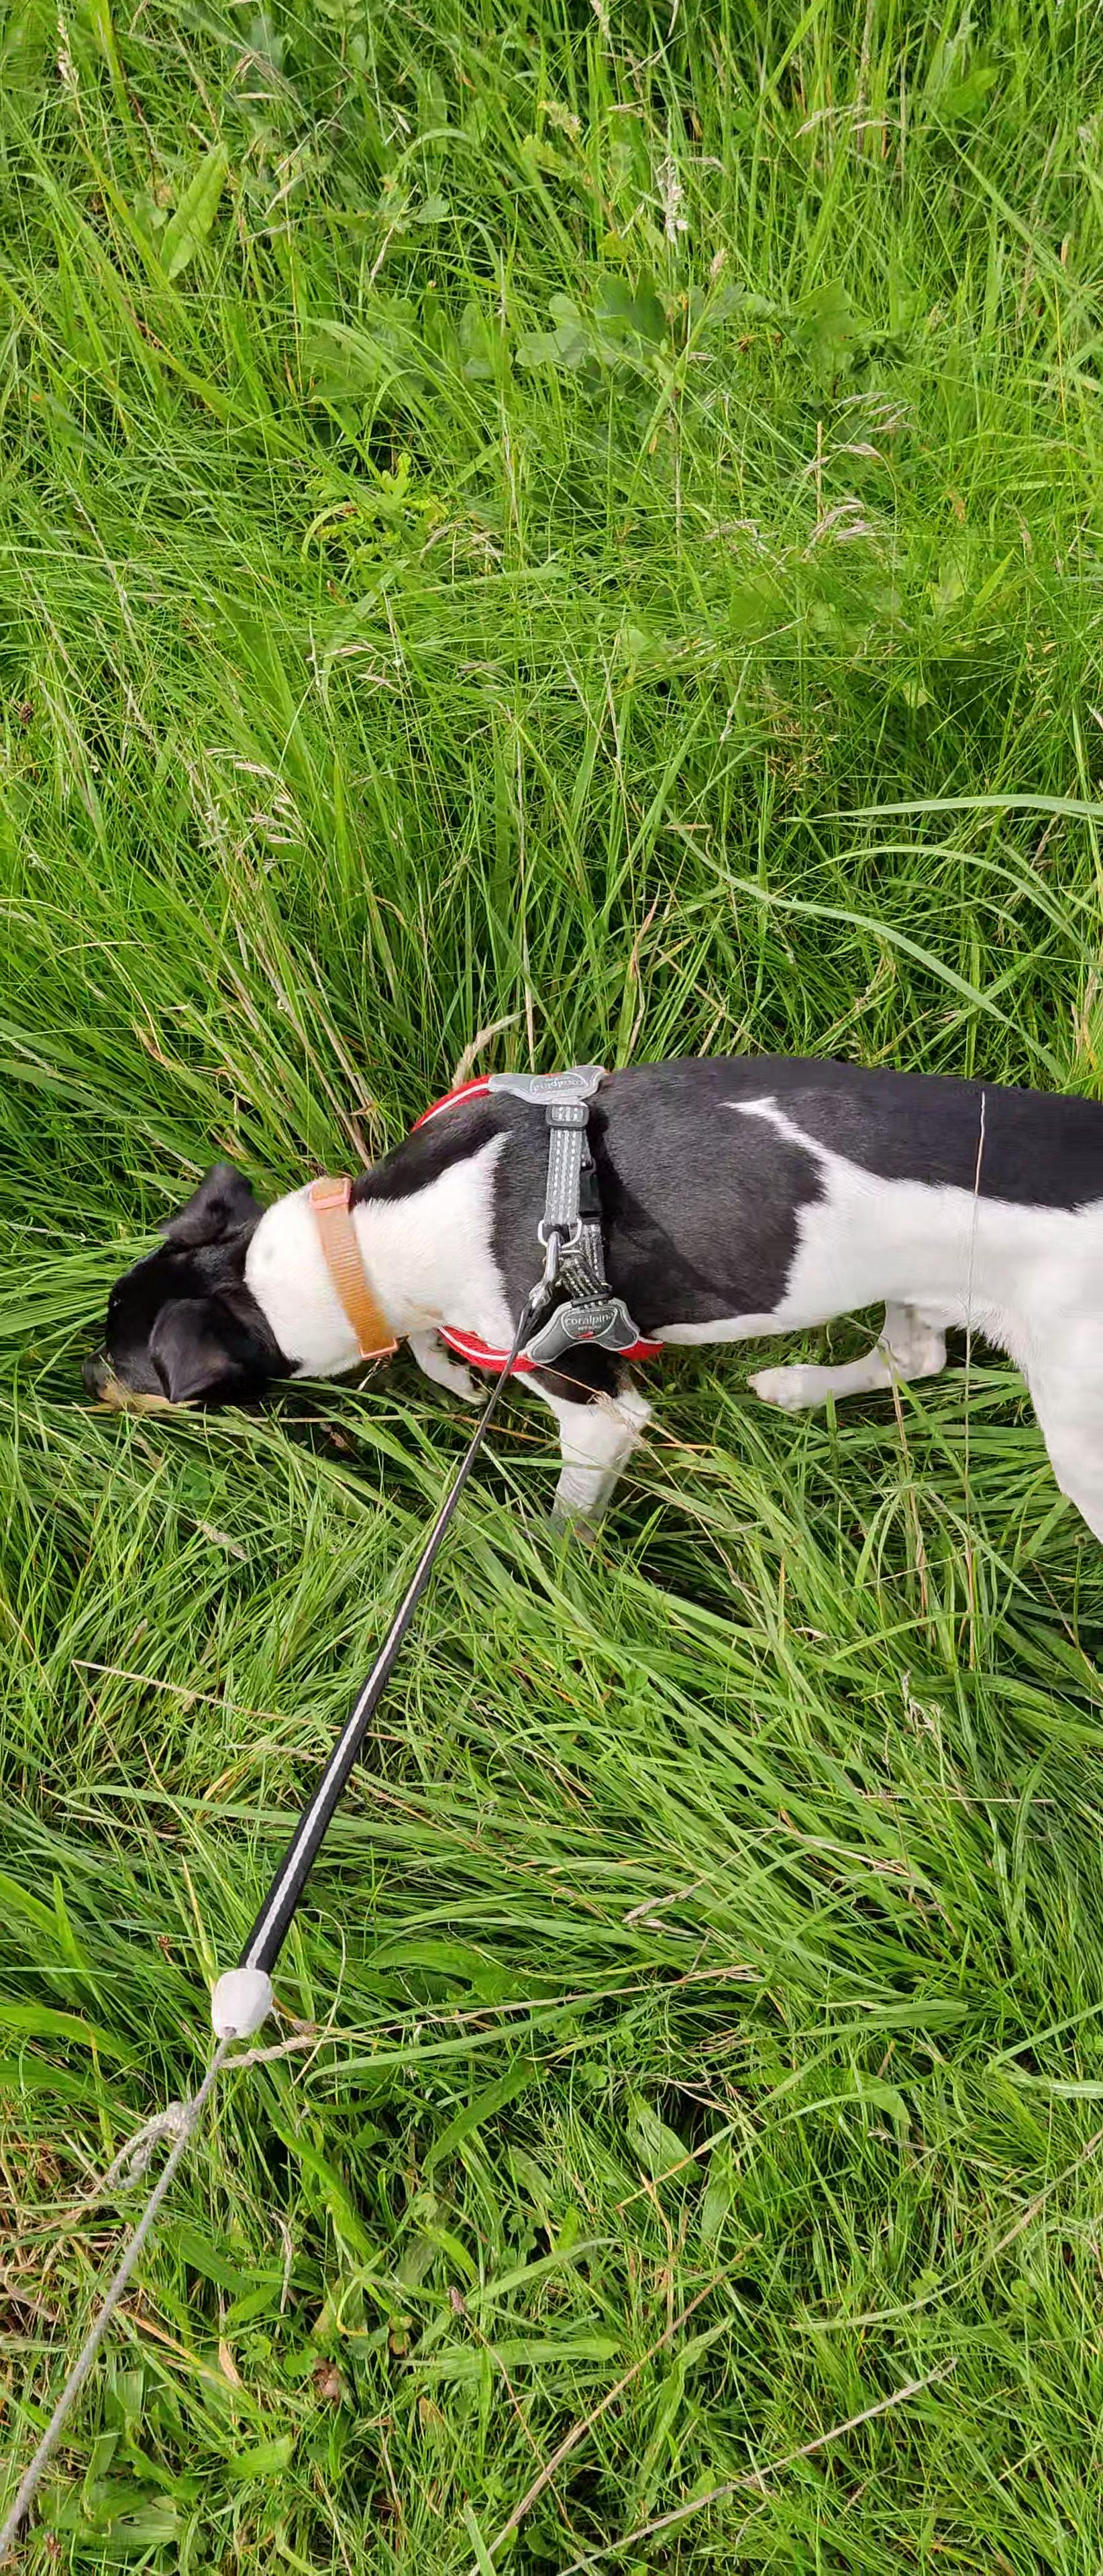Dog: (59, 1048, 1103, 1587)
